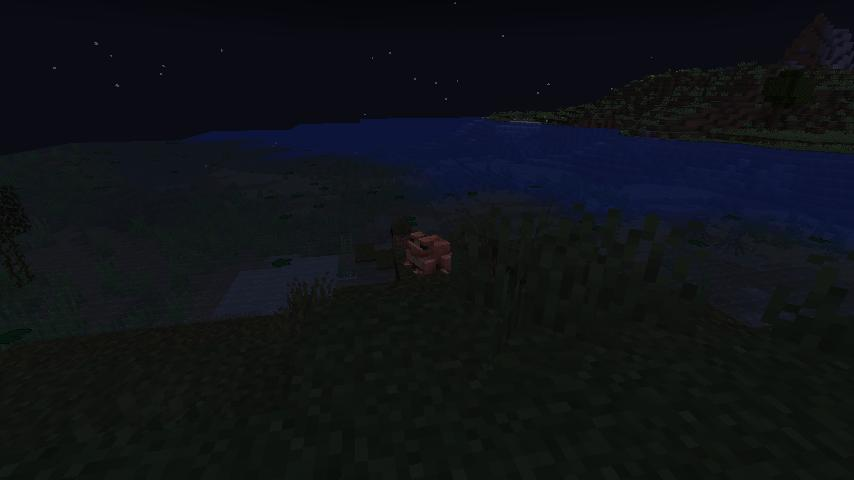frog: (399, 229, 461, 281)
